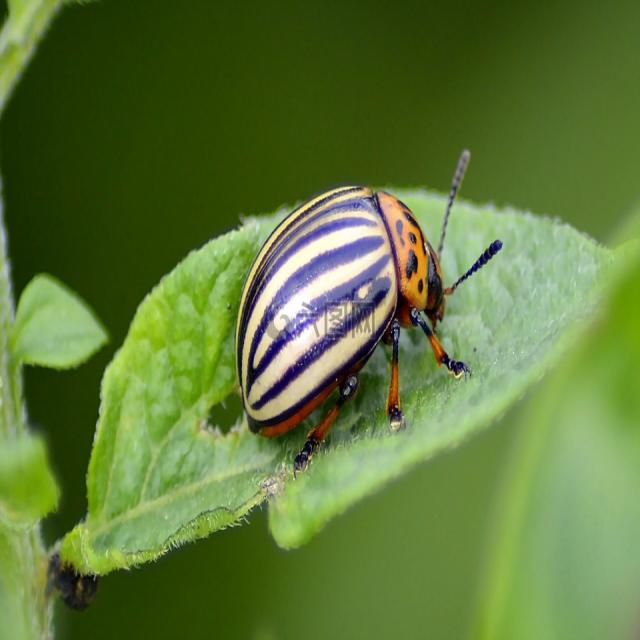ShuCaiHuaBanChong-Grown-: (227, 158, 473, 428)
